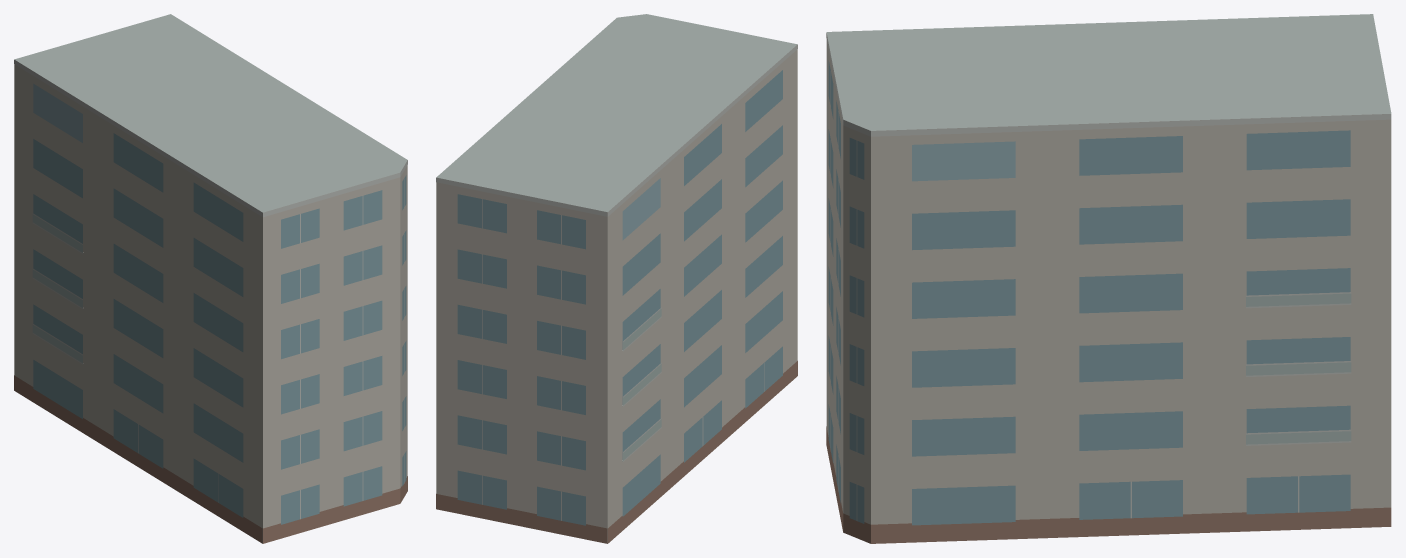
The model's file is survey-upis-32754615.glb.
3 views of the same model, side by side, from view 1: azimuth 30°, elevation 25°; view 2: azimuth 150°, elevation 25°; view 3: azimuth 270°, elevation 25° (orthographic). The views are drawn at different scales.
Parts seen in each view (by area): view 1: survey-upis-32754615.tmp; view 2: survey-upis-32754615.tmp; view 3: survey-upis-32754615.tmp.
Part boxes in pixels (<box>): survey-upis-32754615.tmp: <box>14,14,407,543</box>; survey-upis-32754615.tmp: <box>436,14,797,543</box>; survey-upis-32754615.tmp: <box>826,14,1391,543</box>.
Size of the model in its own units: 10.52 by 17.3 by 21.46.
